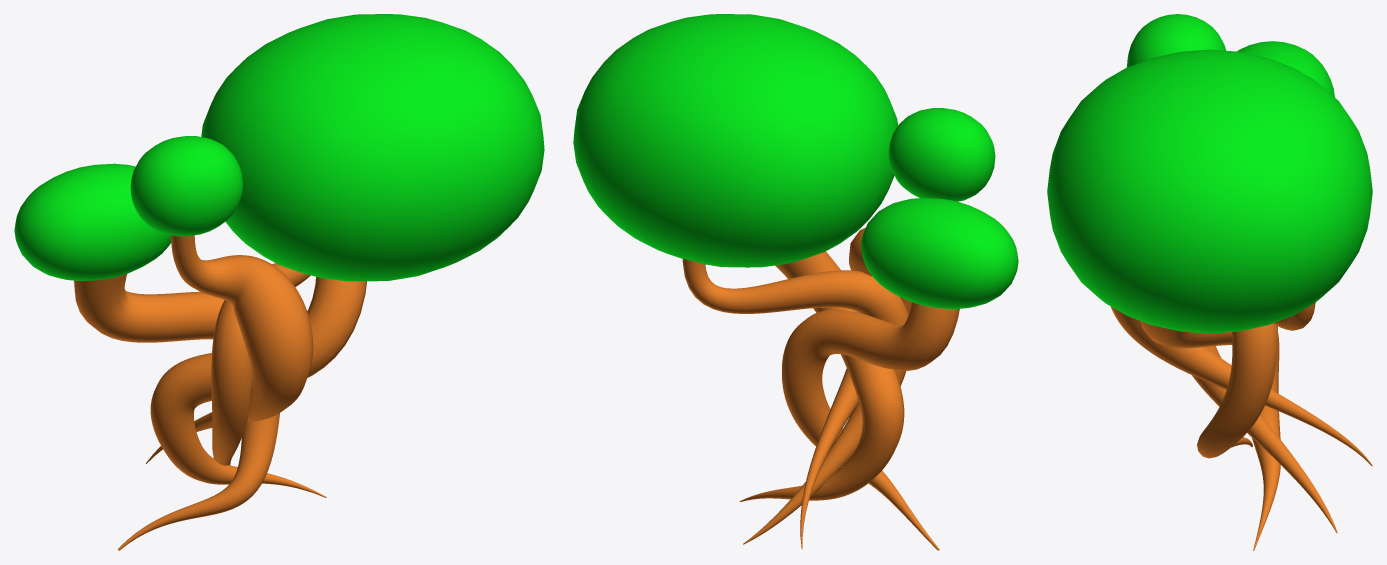
Rendered from tree.glb.
3 renders of one model, left to right at view 1: azimuth 30°, elevation 25°; view 2: azimuth 150°, elevation 25°; view 3: azimuth 270°, elevation 25°, orthographic. The views are drawn at different scales.
Parts seen in each view (by area): view 1: Tree; view 2: Tree; view 3: Tree.
Part boxes in pixels (x1,y1,x2,y2): Tree: (14, 14, 544, 550); Tree: (573, 14, 1018, 550); Tree: (1047, 14, 1372, 550).
Bounding box in the file's own units: 5.88 × 5.7 × 3.41.
